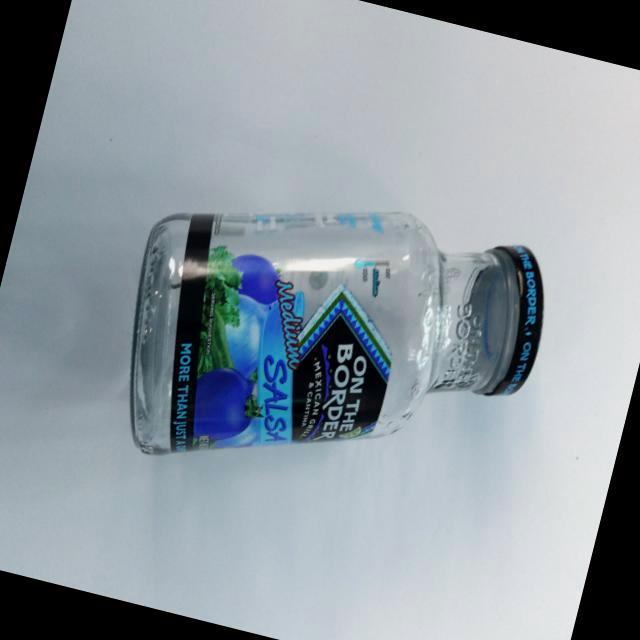glass: (82, 128, 581, 551)
